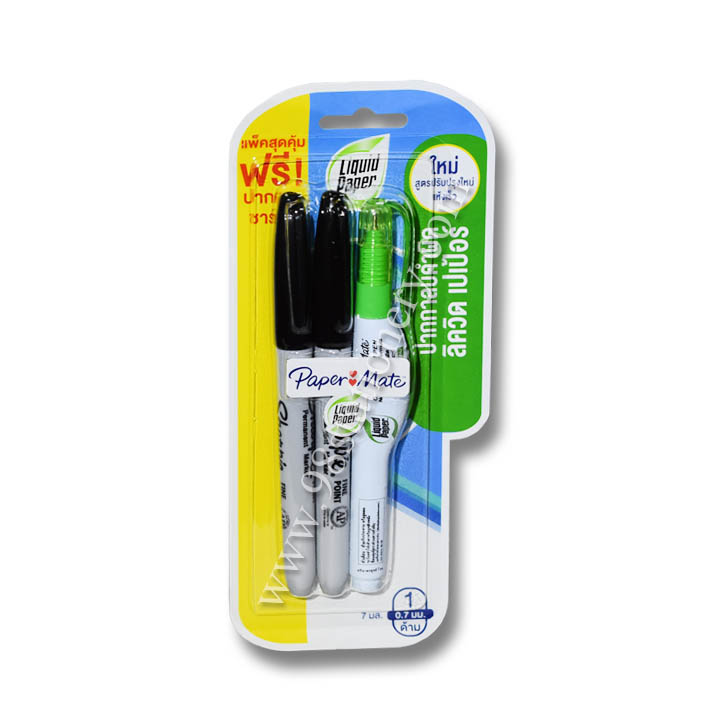Correction_fluid: (348, 190, 421, 598)
